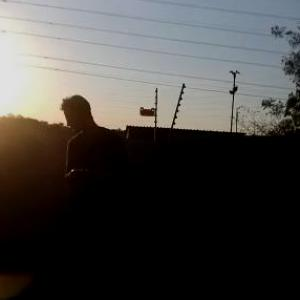follow: (54, 91, 136, 299)
